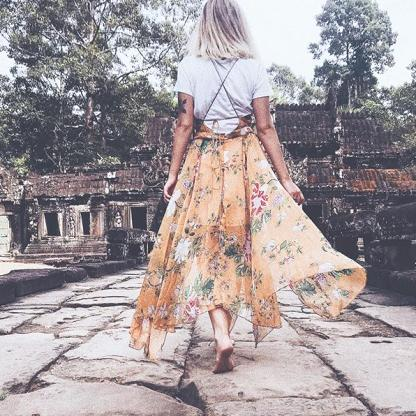dress: (127, 118, 369, 343), (175, 47, 278, 132)
